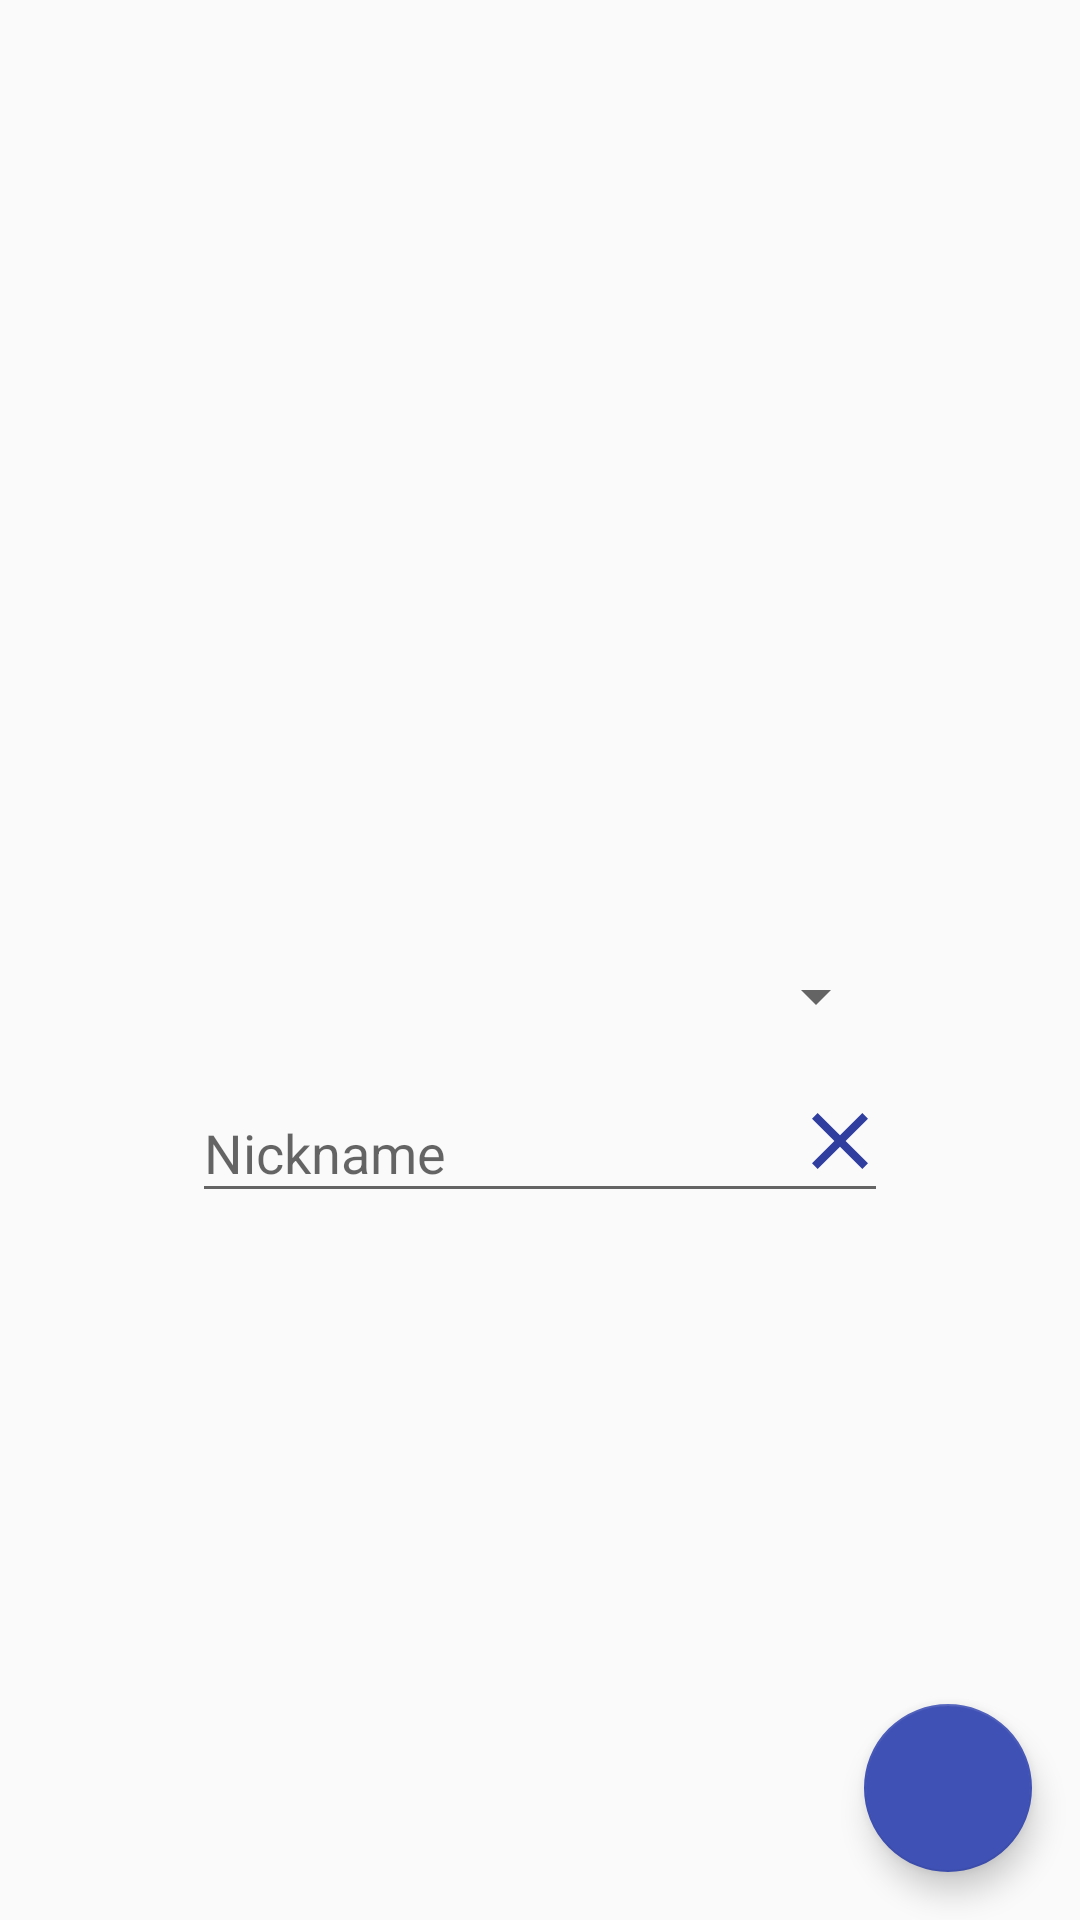

Where icons sit on this 1080 × 1920 app screen, as (left=x1, top=y1, right=x2, bottom=y2):
close: (left=812, top=1113, right=868, bottom=1169)
